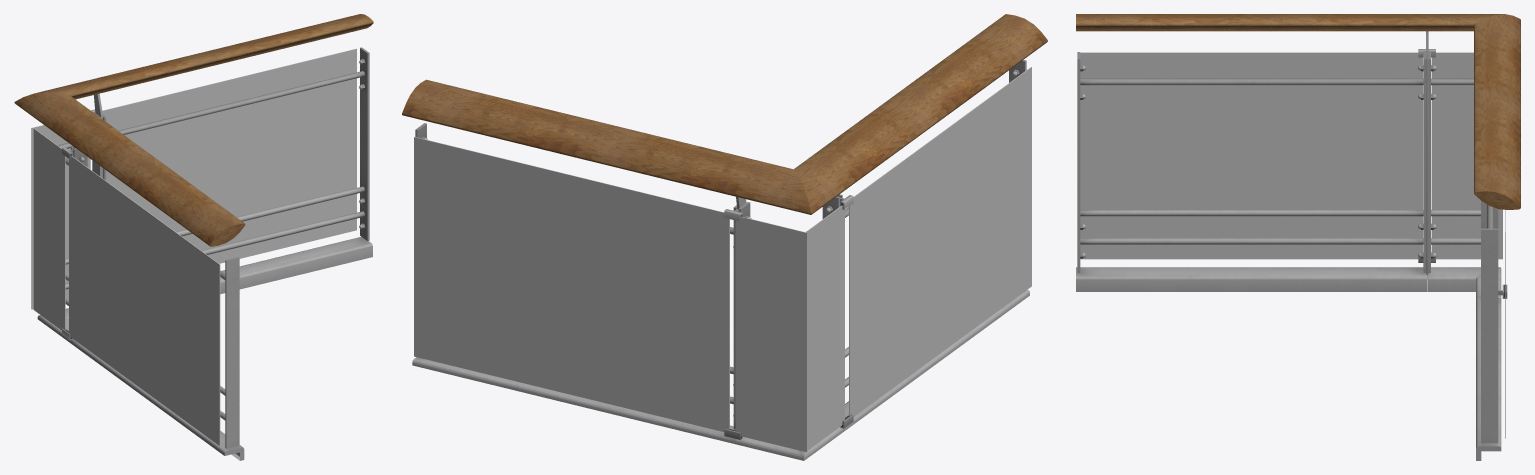
Rendered from SM_Railing_01_Corner.fbx.
3 views of the same model, side by side, from view 1: azimuth 30°, elevation 25°; view 2: azimuth 150°, elevation 25°; view 3: azimuth 270°, elevation 25° (orthographic). The views are drawn at different scales.
Parts seen in each view (by area): view 1: SM_Railing_01_Corner_LOD0; view 2: SM_Railing_01_Corner_LOD0; view 3: SM_Railing_01_Corner_LOD0.
Part boxes in pixels (x1,y1,x2,y2): SM_Railing_01_Corner_LOD0: [14, 14, 373, 460]; SM_Railing_01_Corner_LOD0: [402, 14, 1047, 460]; SM_Railing_01_Corner_LOD0: [1076, 14, 1520, 460].
Bounding box in the file's own units: 165 × 165 × 110.
